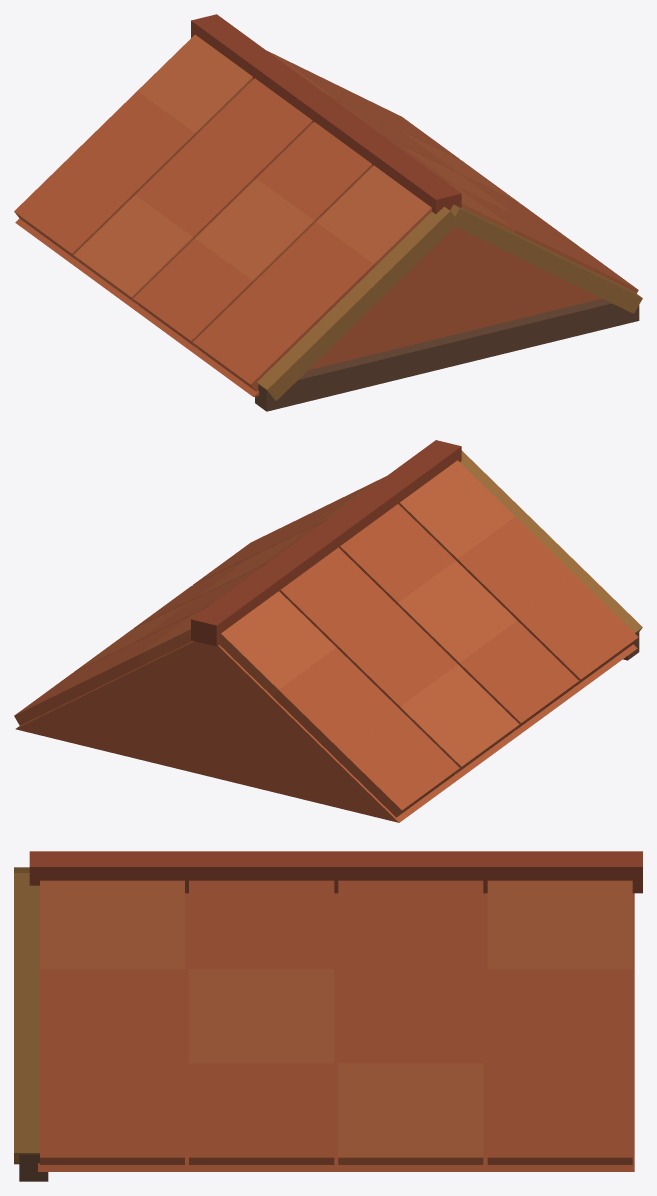
The model's file is module-roof.gltf.
3 renders of one model, top to bottom at view 1: azimuth 30°, elevation 25°; view 2: azimuth 150°, elevation 25°; view 3: azimuth 270°, elevation 25°, orthographic. The views are drawn at different scales.
Parts seen in each view (by area): view 1: module-roof; view 2: module-roof; view 3: module-roof.
Boxes of the visible parts, x1,y1,x2,y2 form: module-roof: [14, 14, 642, 411]; module-roof: [14, 440, 642, 822]; module-roof: [14, 851, 642, 1181].
Size of the model in its own units: 1.35 by 0.555 by 1.52.
